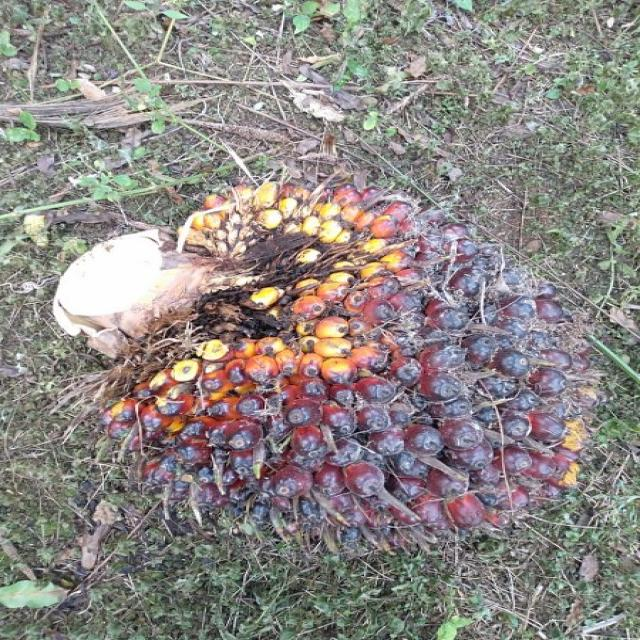fraksi 1: (65, 98, 608, 602)
